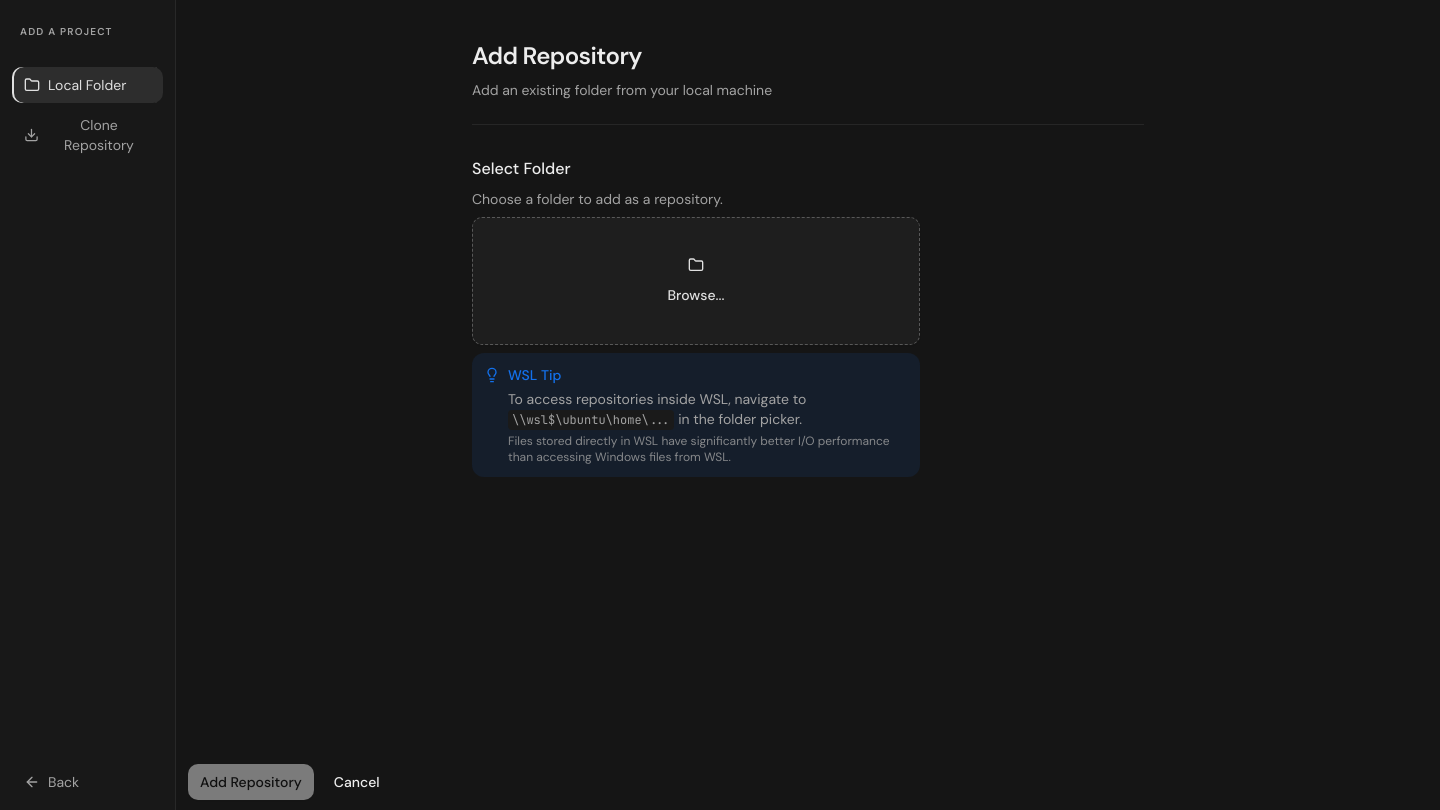
it: AddRepositoryScreen › WSL Tip - Windows platform › shows WSL tip in Clone tab as well
Note: Switch to Clone tab
Click the button "Clone Repository" at (88, 135), box [12, 107, 163, 163]
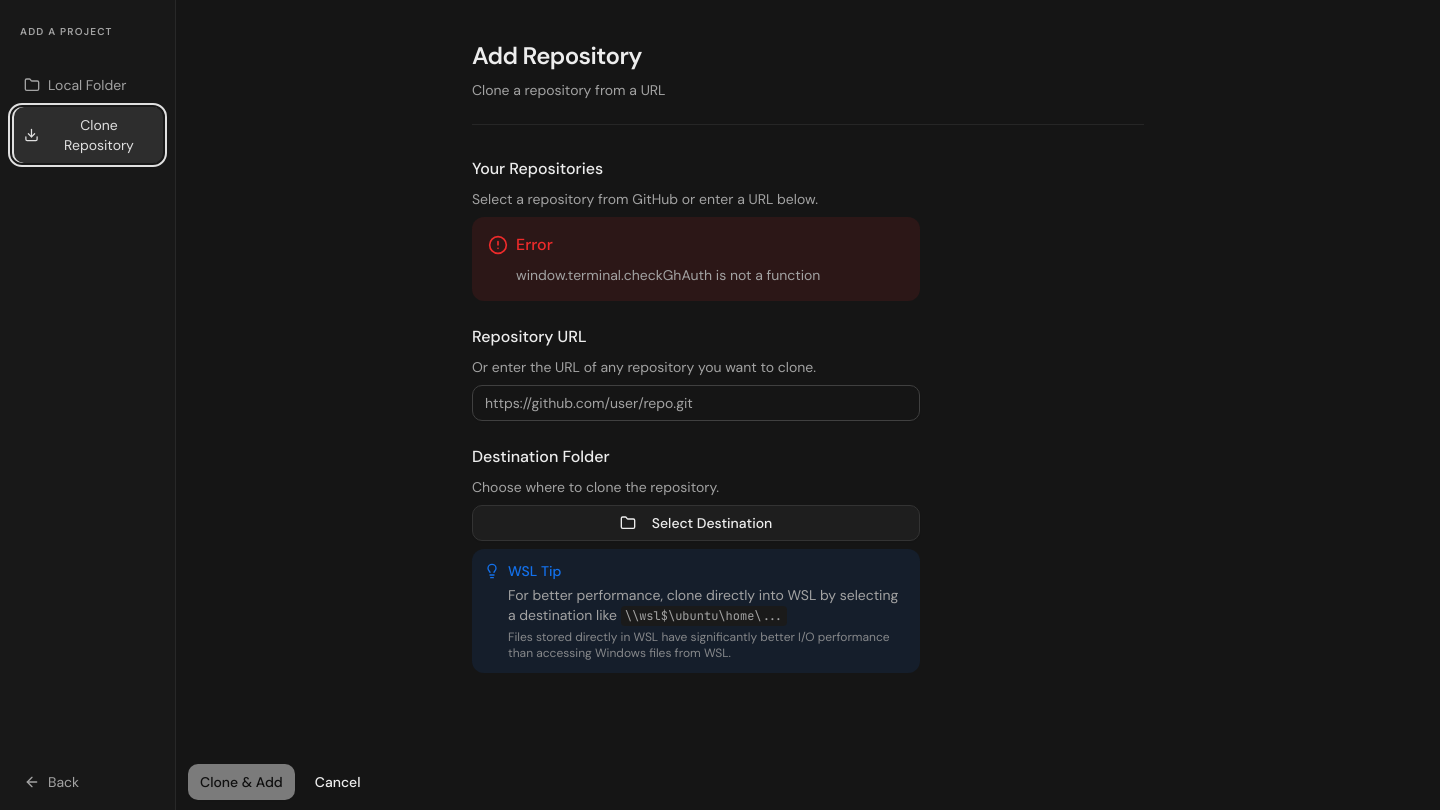
Check: the text "WSL Tip" is shown, box [508, 562, 561, 580]
Check: the text "For better performance, clone directly into WSL" is shown, box [508, 586, 898, 624]
